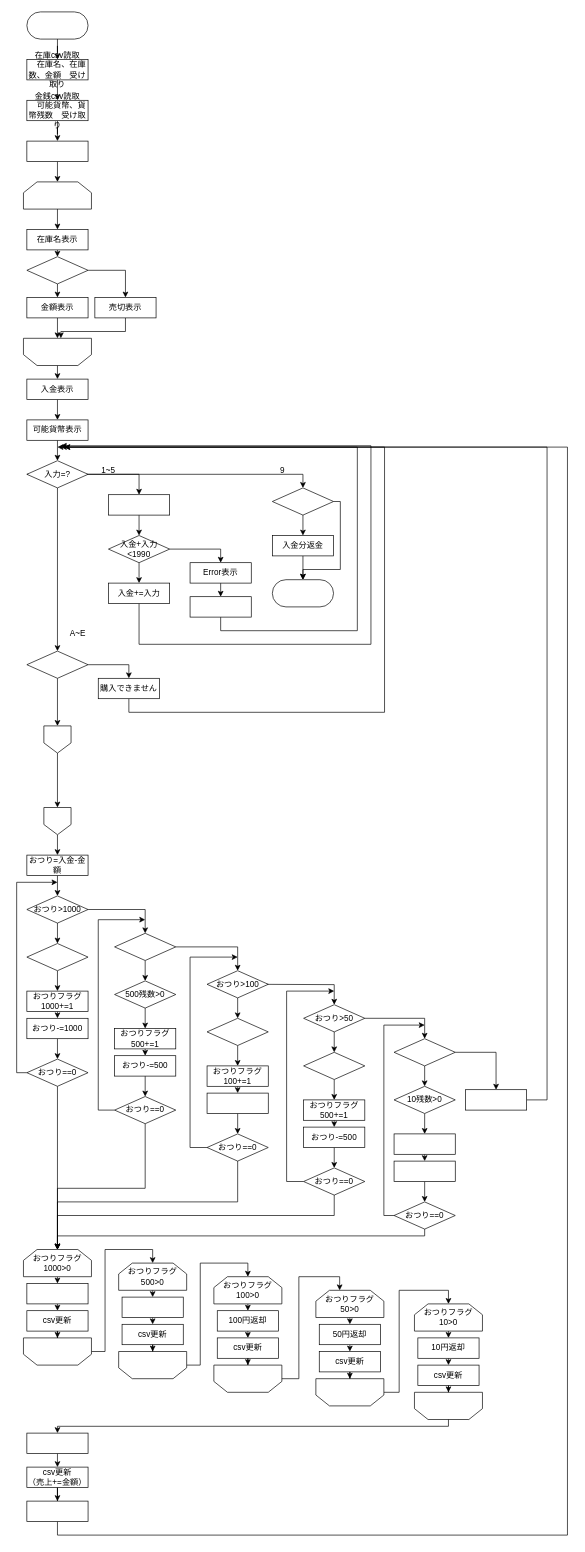
Some shapes in this 585 by 1552 pixel diagram are drawn without their labels. The centre of each missing label's shape, as x and y in pixels:
1000円返却: (57,1293)
1000残数>0: (57,957)
100残数>0: (237,1032)
500円返却: (152,1307)
50残数>0: (334,1066)
end: (303,593)
i<在庫種類数: (57,195)
start: (57,25)
おつり-=10: (424,1171)
おつり-=100: (237,1103)
おつり>10: (424,1052)
おつり>500: (145,947)
おつりが出せません: (496,1099)
おつりフラグ100=1: (424,1143)
メッセージ: (57,1443)
入力=(10~1000): (139,504)
入力分返金: (220,606)
入金-金額>0: (57,664)
入金=0: (57,1511)
入金=0 おつり=0 おつりフラグ各種=0: (57,151)
入金>0: (303,501)
在庫>0: (57,270)
